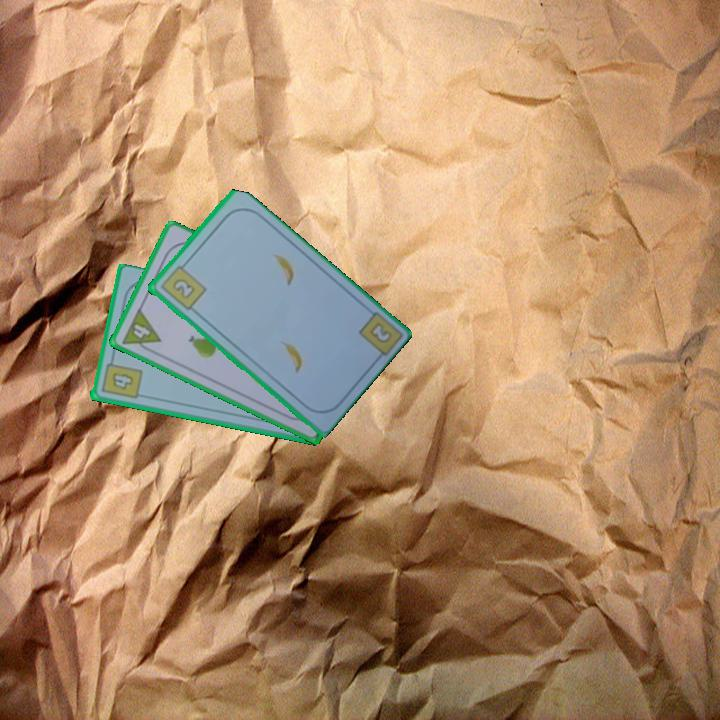2b: (156, 258, 209, 313), (366, 319, 395, 346)
4b: (97, 354, 144, 402)
4p: (118, 305, 164, 357)
